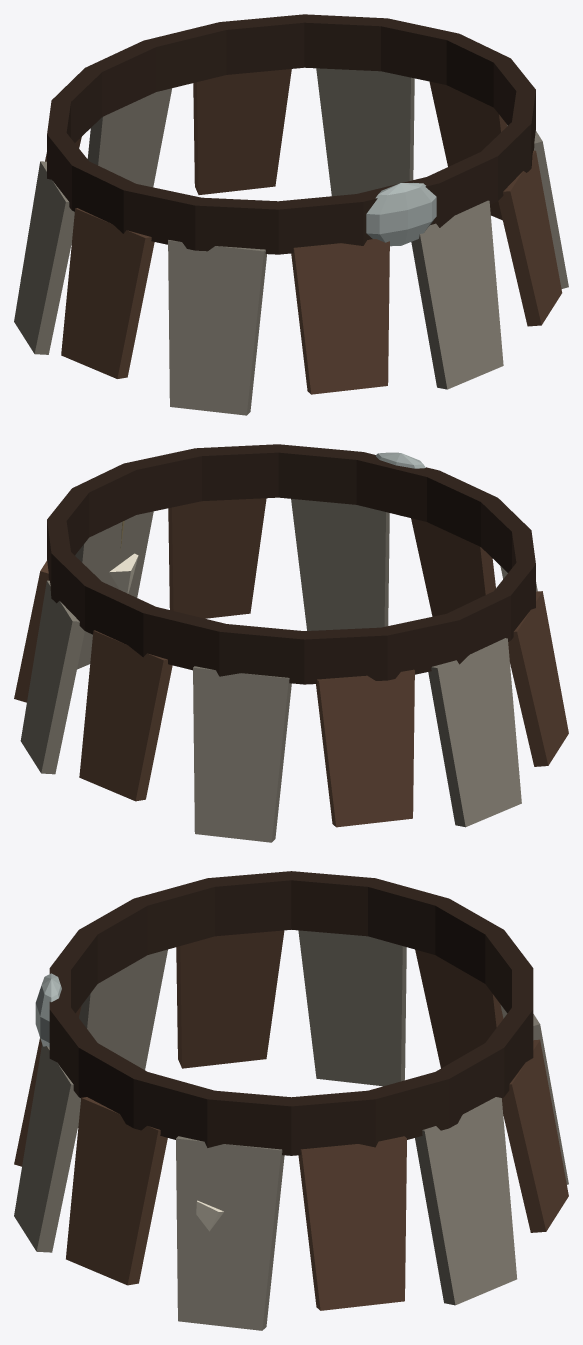
File: saltreaver_kilt.glb
3 views of the same model, one above another, from view 1: azimuth 30°, elevation 25°; view 2: azimuth 150°, elevation 25°; view 3: azimuth 270°, elevation 25° (orthographic). The views are drawn at different scales.
Visible parts, largest first — view 1: saltreaver_kilt; view 2: saltreaver_kilt; view 3: saltreaver_kilt.
Part boxes in pixels (x1,y1,x2,y2): saltreaver_kilt: (14,14,568,415); saltreaver_kilt: (14,444,568,842); saltreaver_kilt: (14,871,568,1330).
Bounding box in the file's own units: 1.13 × 0.4526 × 1.02.
